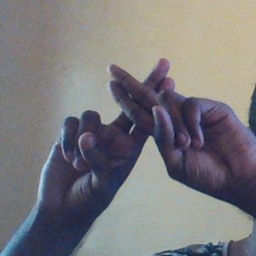F: (74, 47, 212, 162)
